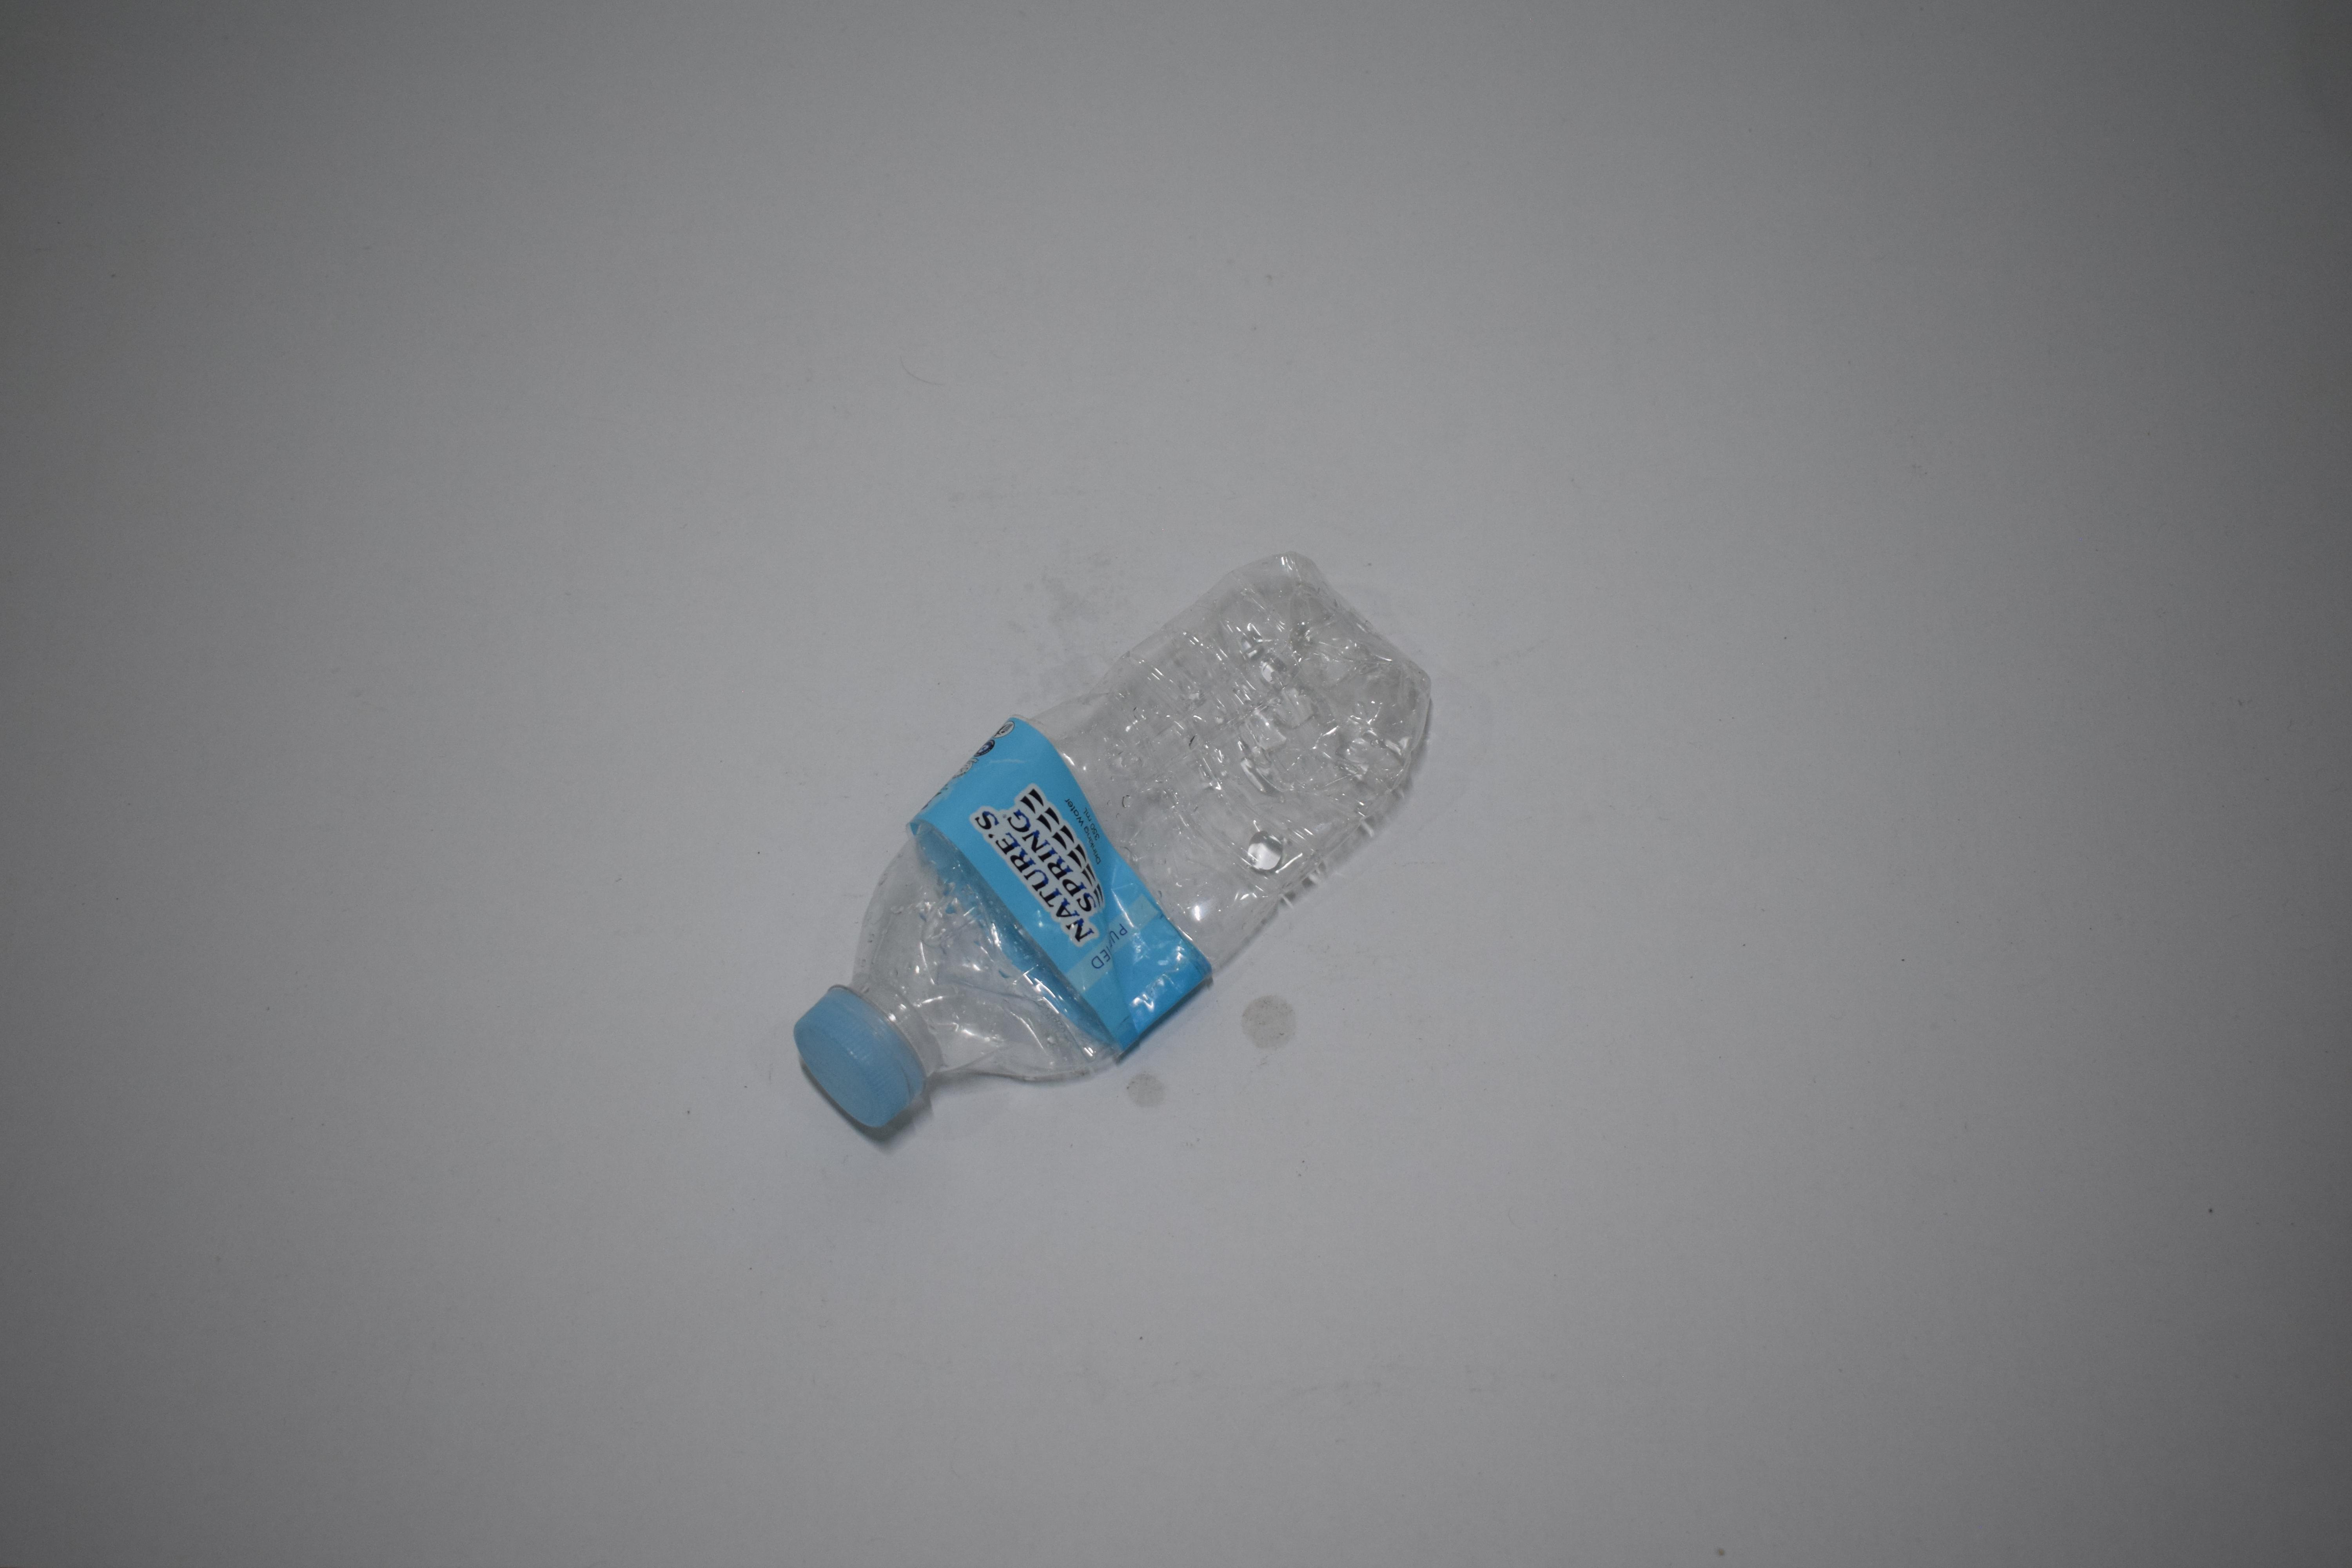bottle: (788, 0, 1442, 364)
